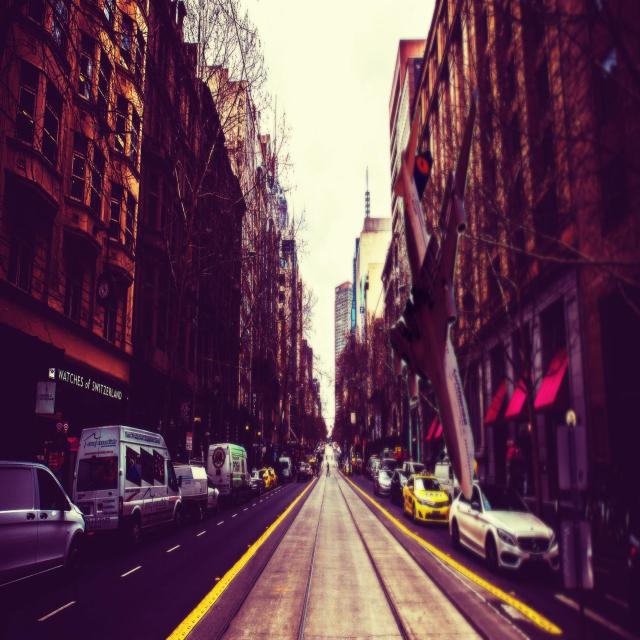airplane: (388, 85, 480, 501)
